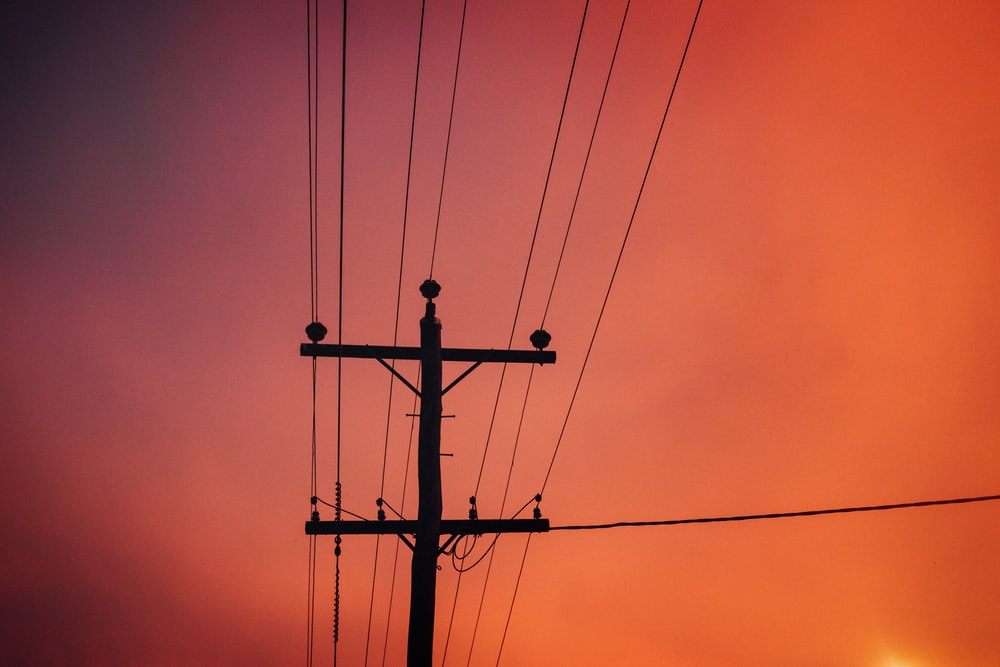utility_pole: (270, 251, 590, 638)
